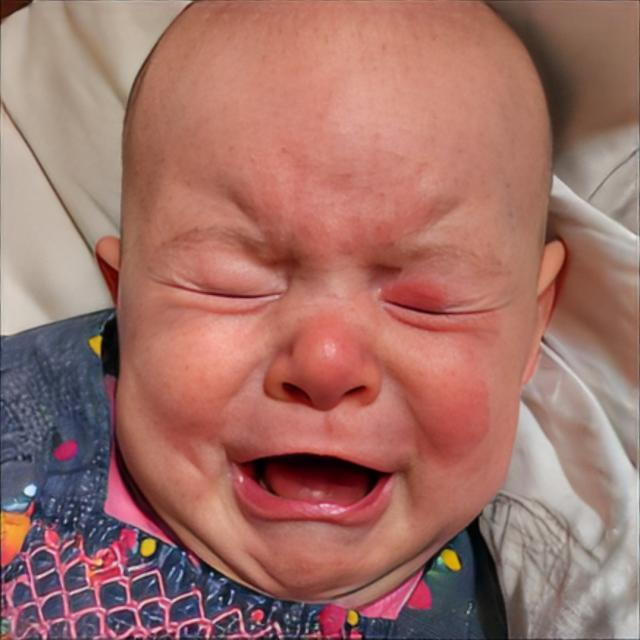sad: (122, 40, 532, 598)
